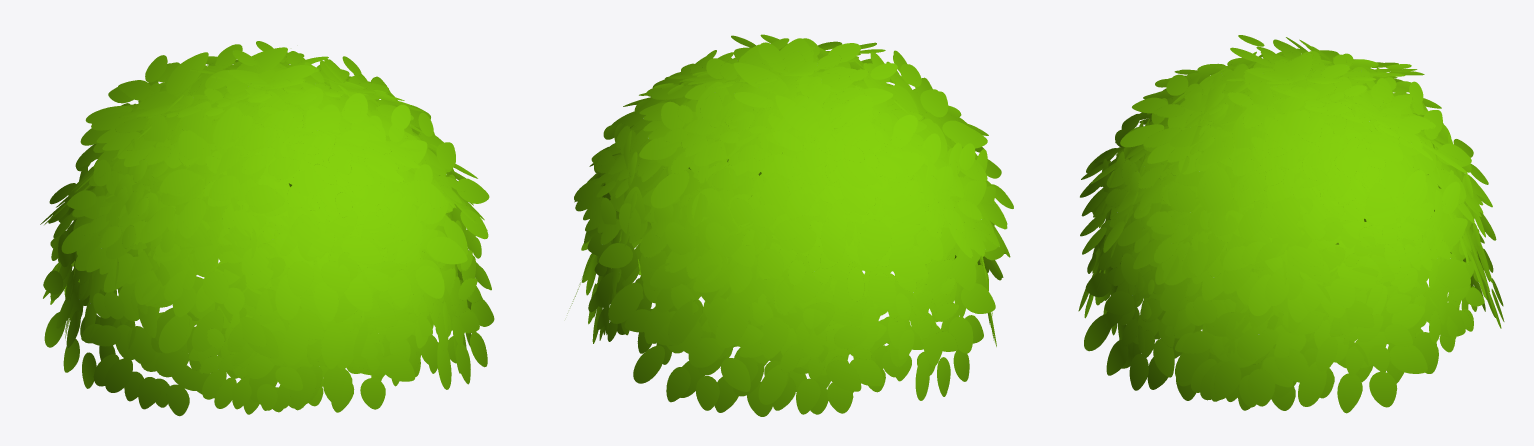
Rendered from bush.gltf.
The picture shows the model from 3 angles, left to right: view 1: azimuth 30°, elevation 25°; view 2: azimuth 150°, elevation 25°; view 3: azimuth 270°, elevation 25°; orthographic projection. The views are drawn at different scales.
Visible parts, largest first — view 1: Bush; view 2: Bush; view 3: Bush.
Boxes of the visible parts, x1,y1,x2,y2 form: Bush: (40, 41, 494, 416); Bush: (567, 34, 1013, 416); Bush: (1078, 35, 1504, 413).
Bounding box in the file's own units: 1.09 × 0.6916 × 1.05.
Materials: 1 (1 with a texture image).
